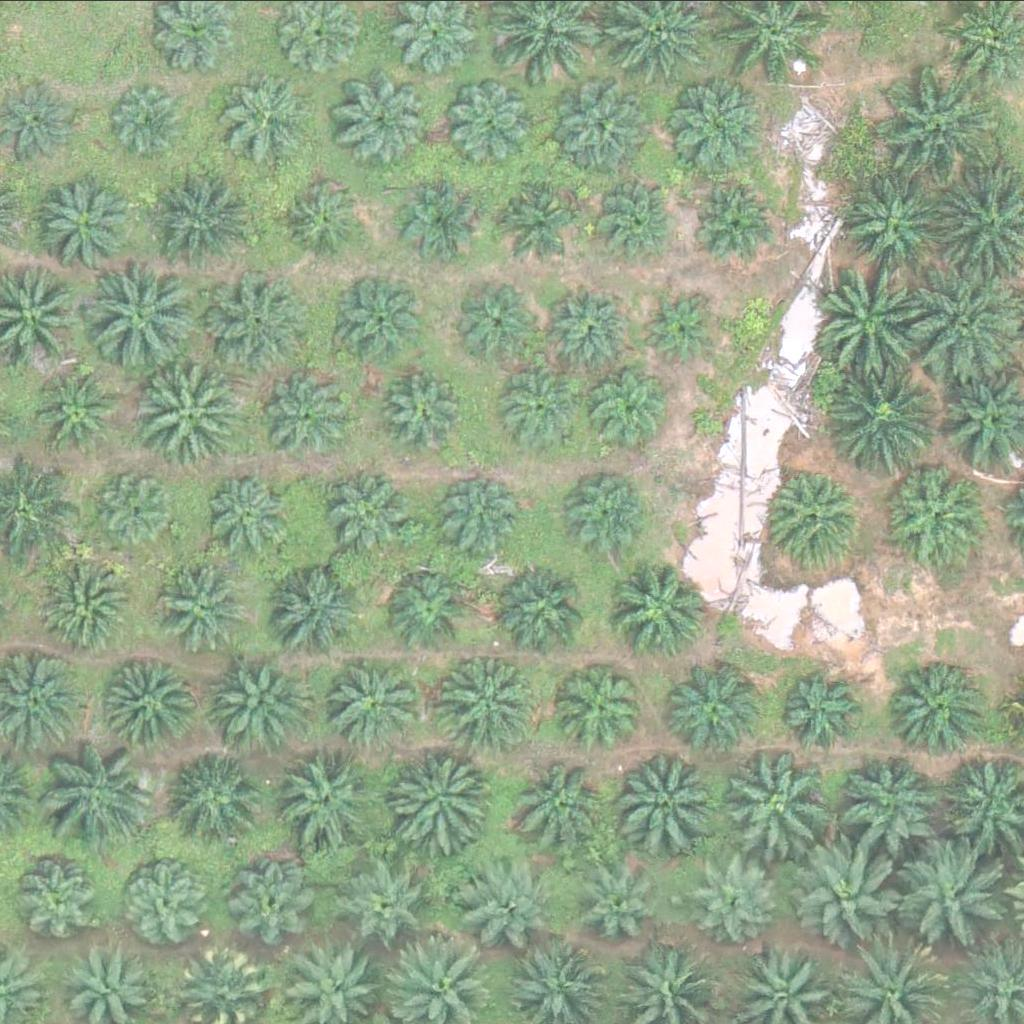Kelapa_Sawit: (890, 841, 1004, 954), (153, 168, 266, 281), (90, 259, 203, 372), (832, 362, 945, 475), (46, 733, 159, 846), (721, 747, 834, 860), (796, 834, 909, 947), (606, 742, 720, 854), (878, 70, 991, 182), (134, 360, 247, 472), (815, 263, 928, 375), (883, 654, 984, 754), (561, 76, 662, 176), (40, 172, 141, 272), (207, 275, 308, 375), (842, 175, 943, 275), (36, 558, 137, 658), (265, 556, 366, 656), (497, 560, 598, 660), (613, 559, 714, 659), (441, 650, 542, 750), (169, 746, 270, 846), (281, 750, 382, 850), (397, 750, 498, 850), (884, 463, 984, 563), (849, 752, 949, 852), (667, 77, 767, 177), (769, 465, 869, 565), (103, 651, 203, 751), (208, 650, 308, 750), (669, 657, 769, 757), (513, 748, 613, 848), (457, 847, 557, 947), (347, 76, 435, 164), (448, 76, 536, 164), (93, 462, 181, 550), (200, 473, 288, 561), (328, 469, 416, 557), (430, 476, 518, 564), (378, 374, 466, 462), (333, 276, 421, 364), (696, 177, 784, 265), (279, 175, 367, 263), (161, 560, 249, 648), (563, 660, 651, 748), (776, 668, 864, 756), (36, 368, 124, 456), (565, 470, 653, 557), (582, 360, 670, 447), (497, 364, 585, 451), (261, 373, 349, 460), (458, 279, 546, 366), (542, 278, 630, 365), (586, 180, 674, 267), (489, 172, 577, 259), (392, 180, 480, 267), (224, 74, 312, 161), (383, 565, 471, 652), (327, 656, 415, 743), (21, 853, 109, 940), (130, 856, 218, 943), (229, 853, 317, 940), (346, 856, 434, 943), (590, 856, 678, 943), (695, 851, 783, 938), (114, 82, 190, 157), (639, 289, 715, 364)
